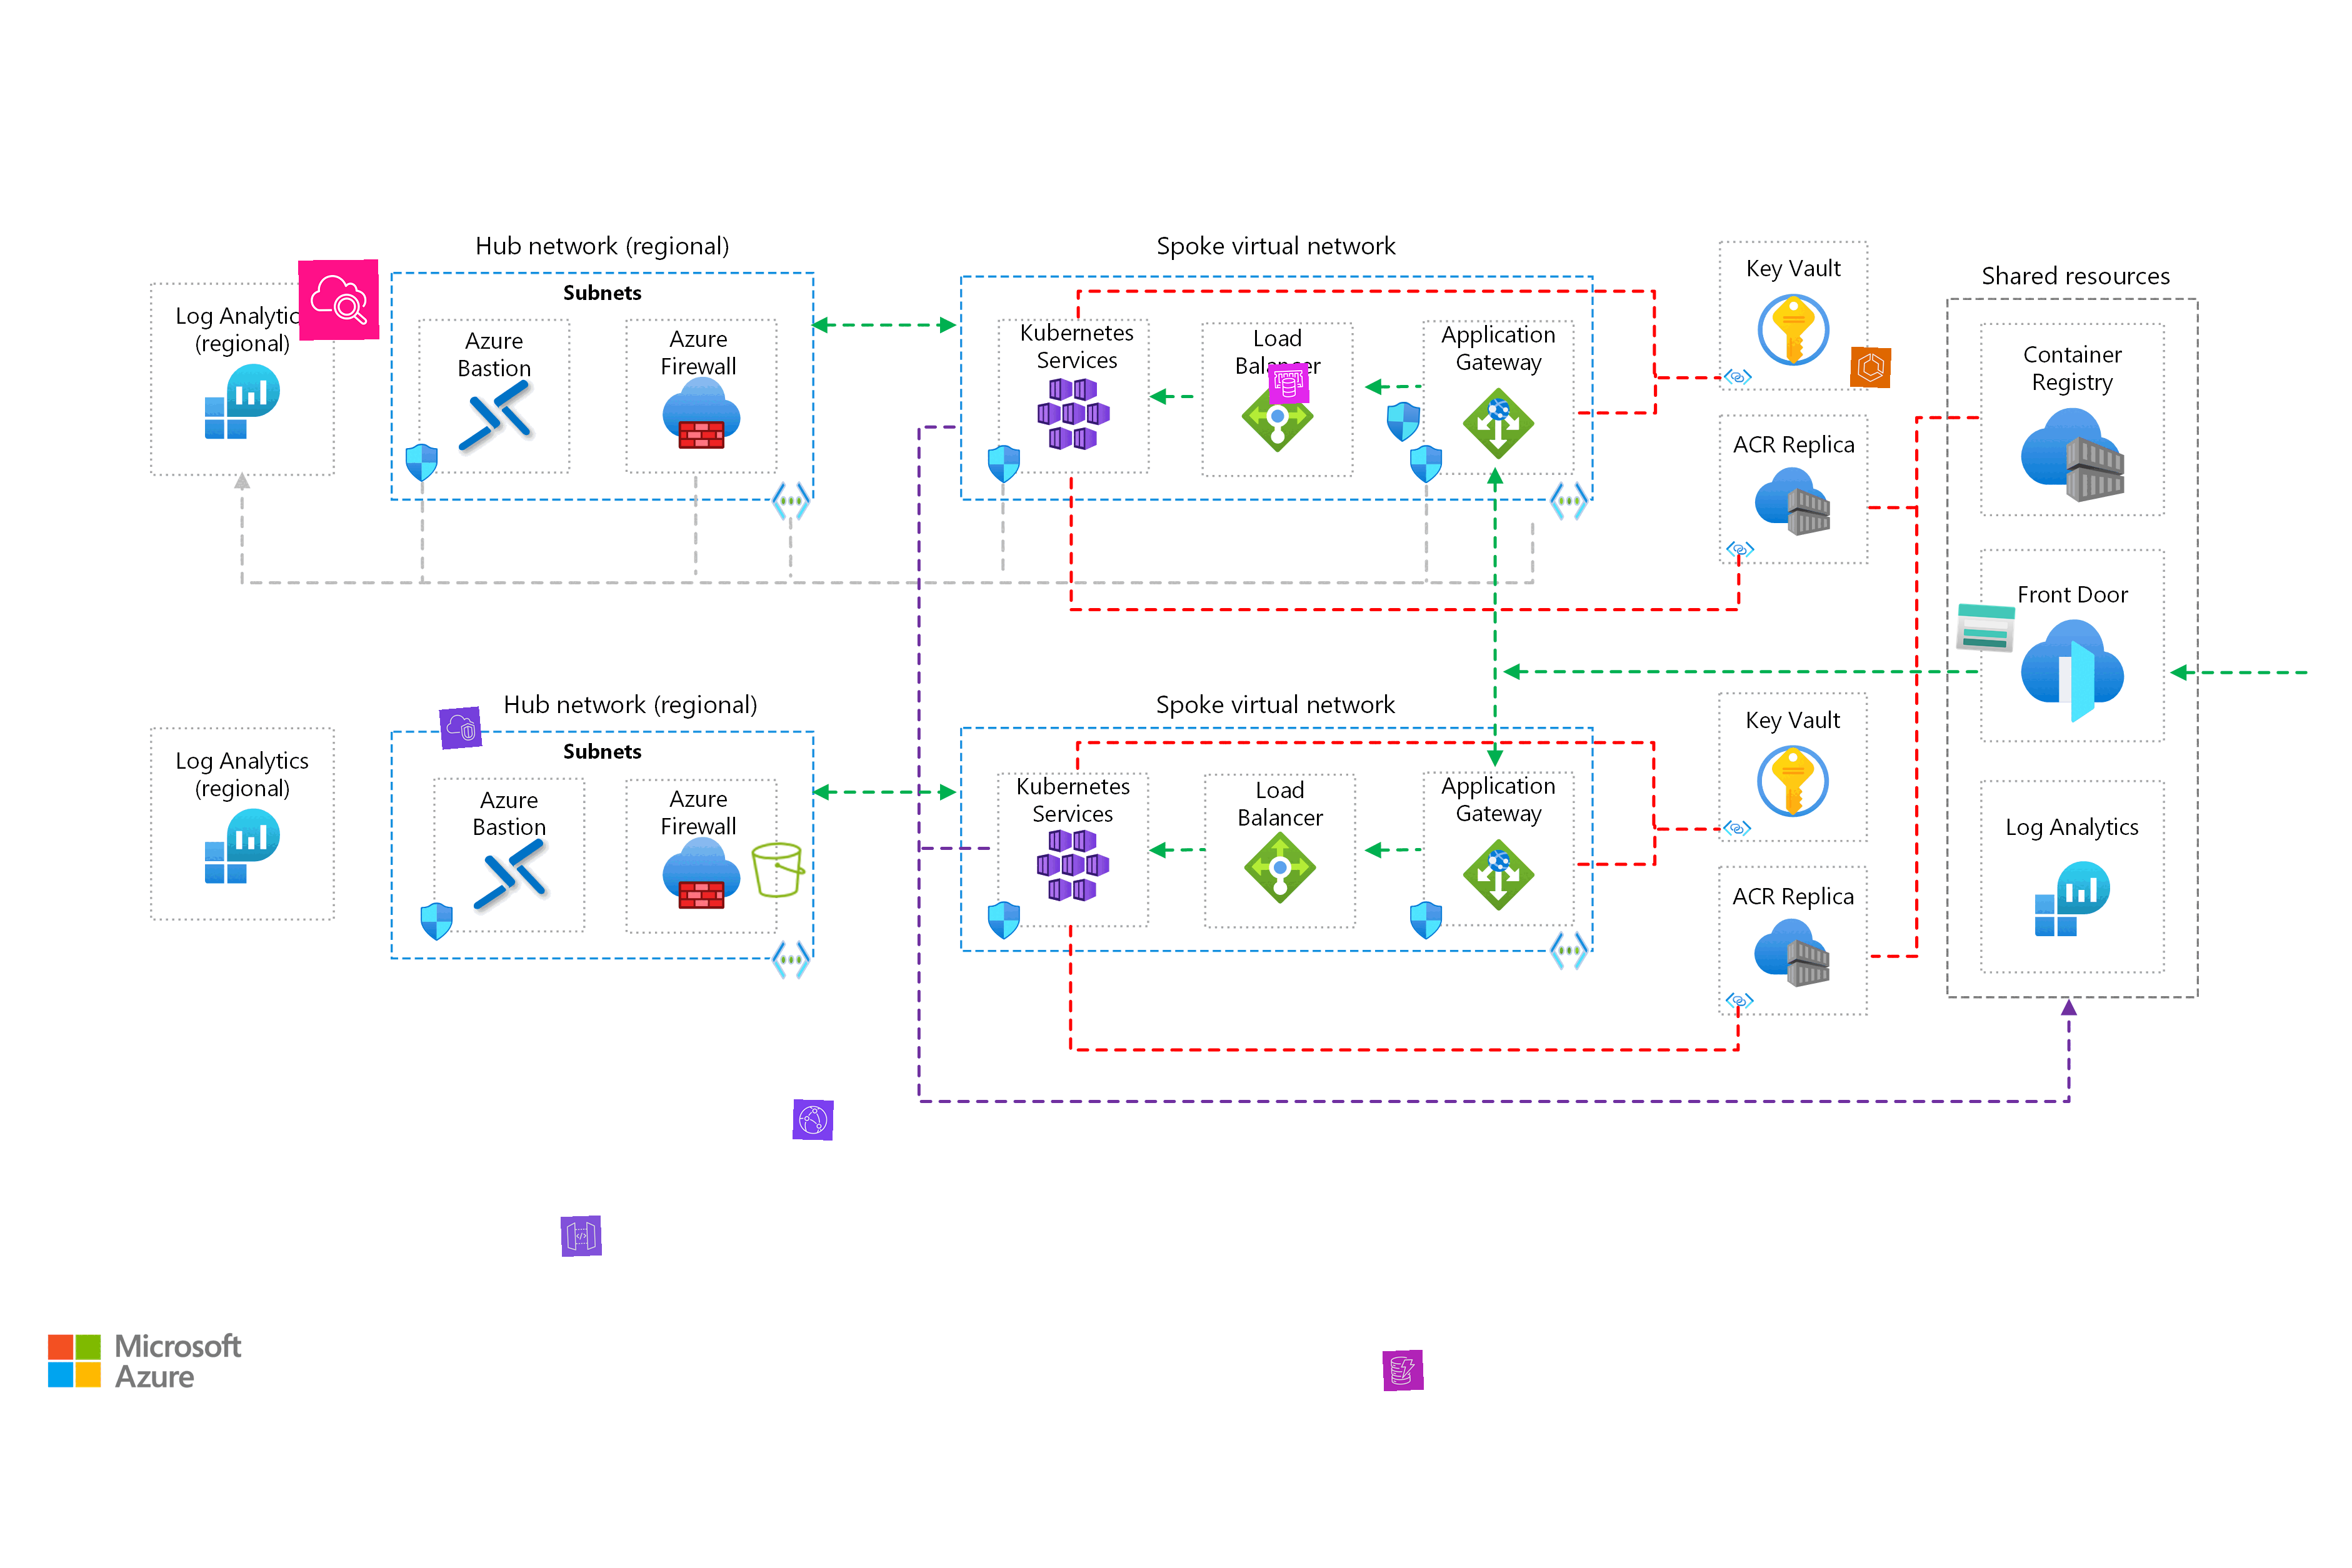aws_amazon_api_gateway: (560, 1214, 602, 1258)
aws_amazon_cloudfront: (793, 1099, 833, 1141)
aws_amazon_cloudwatch: (297, 259, 380, 341)
aws_amazon_dynamodb: (1383, 1349, 1424, 1391)
aws_amazon_elastic_container_service: (1850, 346, 1892, 388)
aws_amazon_elasticache: (1267, 362, 1311, 404)
aws_amazon_virtual_private_cloud: (439, 707, 483, 751)
aws_simple_storage_service_s3_standard: (747, 838, 810, 901)
azure_network_security_groups: (1383, 401, 1424, 443)
azure_storage_accounts: (1953, 595, 2018, 660)
